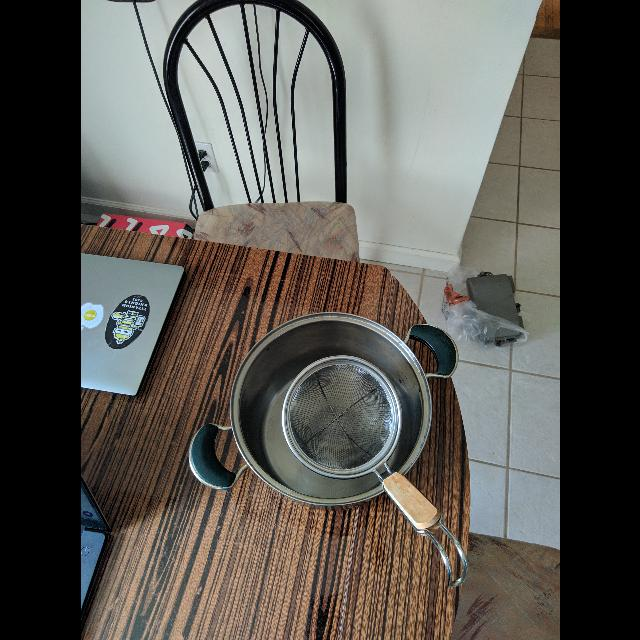Handle: (367, 461, 475, 594)
Strainer: (278, 351, 403, 481)
